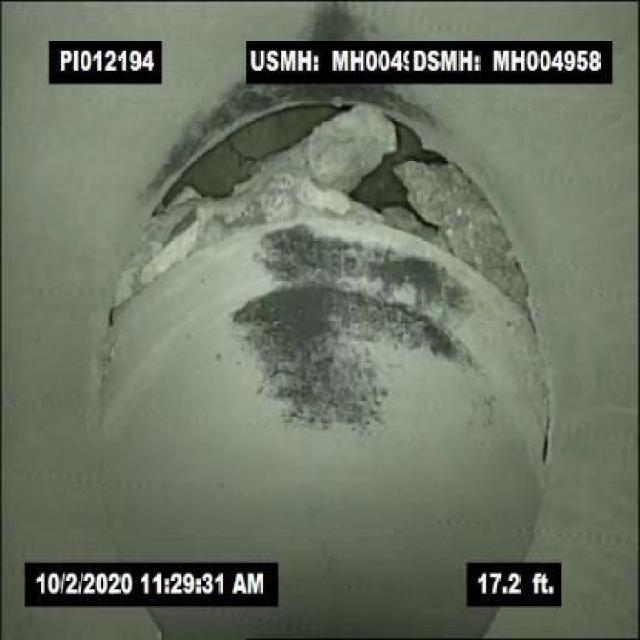Hole: (65, 88, 606, 302)
